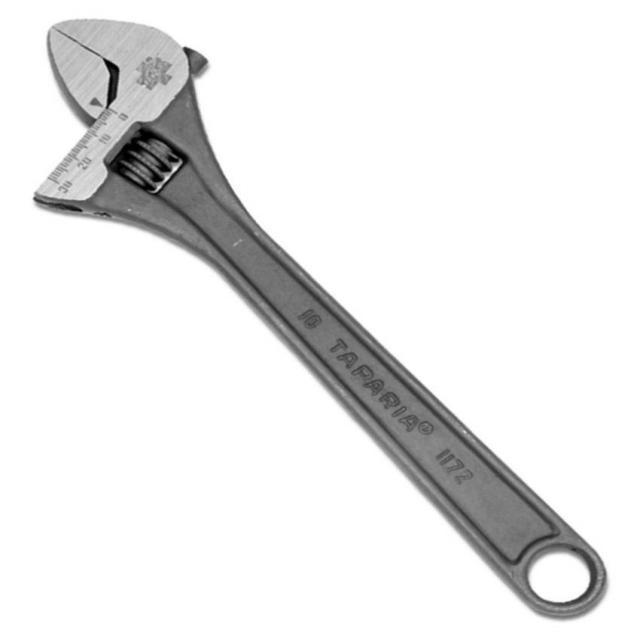wrench: (25, 14, 612, 624)
